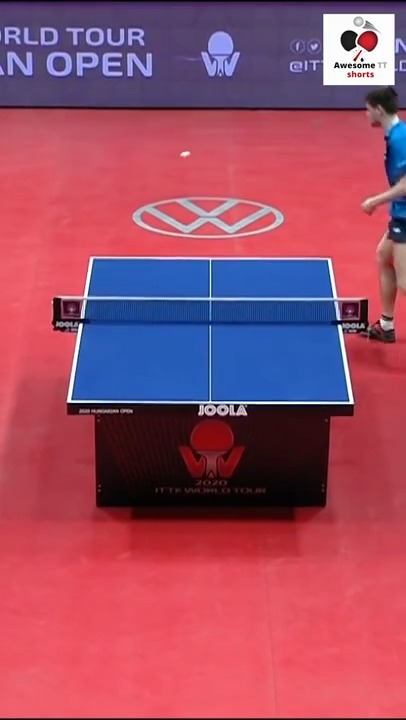Ball: (179, 148, 192, 162)
